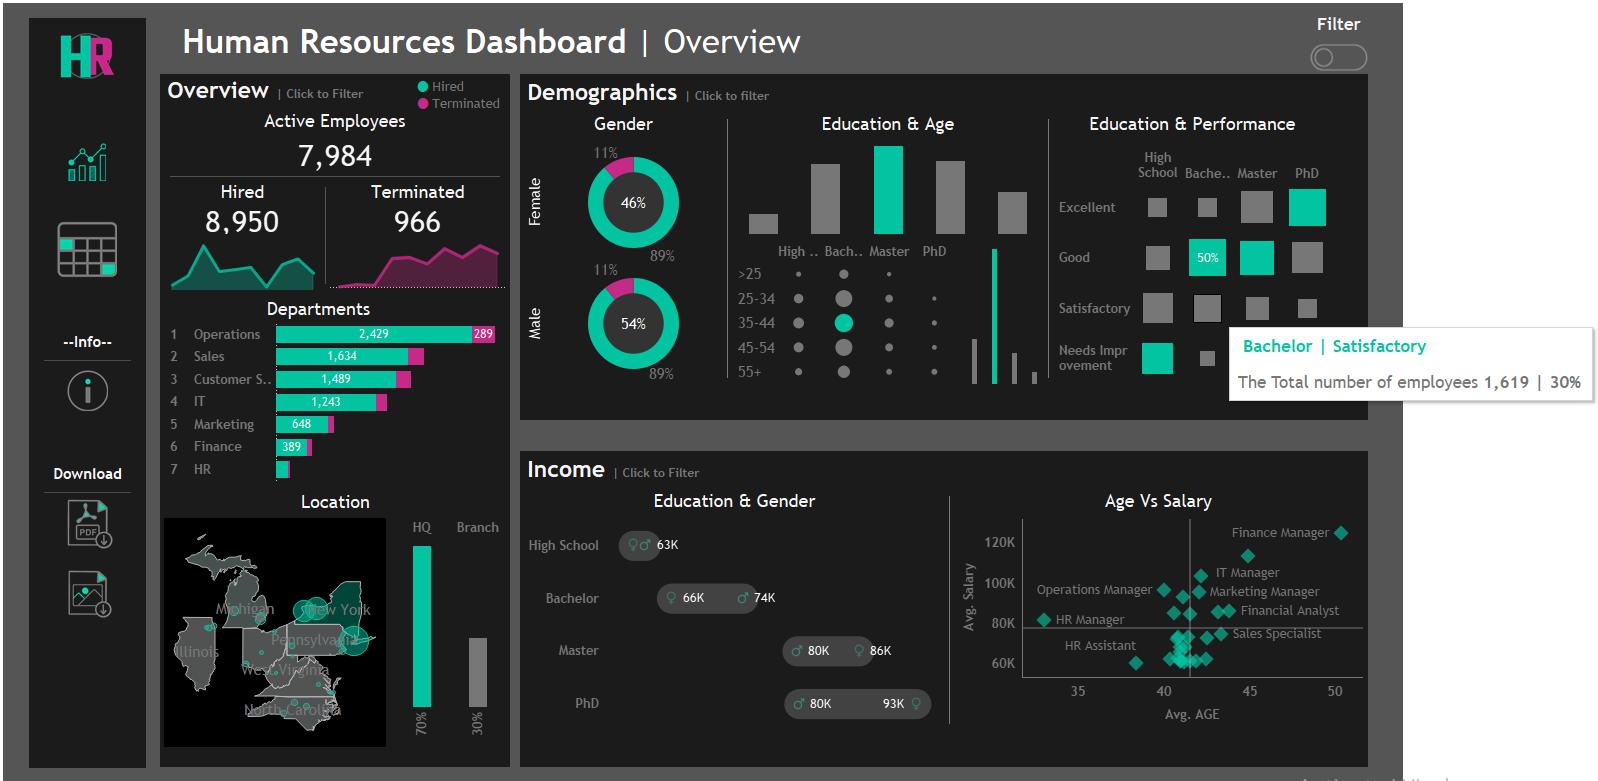

What the dashboard file says about the page in this screenshot:
{"tool":"tableau","page":{"name":"HR | Summary (3)","canvas":[1400,800],"ordinal":3},"visuals":[{"type":"blank","box":[7,7,130,393]},{"type":"text","box":[143,7,676,64]},{"type":"blank","box":[819,7,536,64]},{"type":"text","box":[149,77,352,32]},{"type":"text","box":[509,79,838,35]},{"type":"text","box":[149,109,352,29]},{"type":"text","box":[511,116,207,29]},{"type":"blank","box":[718,116,25,246]},{"type":"text","box":[743,116,261,29]},{"type":"blank","box":[1004,116,25,246]},{"type":"text","box":[1029,116,316,29]},{"type":"worksheet","title":"Active","mark":"Text","box":[149,138,352,41]},{"type":"worksheet","title":"Gender","mark":"Pie","rows":["Gender"],"cols":["Calculation_1937110846429085710","Calculation_1937110846429085710"],"box":[511,145,207,217]},{"type":"worksheet","title":"Age Group","mark":"Bar","rows":["Calculation_1937110846402056192"],"cols":["Calculation_1937110846440509456"],"box":[743,145,261,100]},{"type":"worksheet","title":"Education VS Performance","mark":"Square","rows":["Performance Rating"],"cols":["Education Level"],"box":[1029,145,316,217]},{"type":"blank","box":[149,179,352,25]},{"type":"text","box":[151,206,165,29]},{"type":"blank","box":[316,206,17,113]},{"type":"text","box":[333,206,166,29]},{"type":"worksheet","title":"HIRED","mark":"Text","box":[151,235,165,32]},{"type":"worksheet","title":"Terminated","mark":"Text","box":[333,235,166,32]},{"type":"worksheet","title":"Age VS Education","mark":"Pie","rows":["Calculation_1937110846440509456"],"cols":["Education Level"],"box":[743,245,152.5,117]},{"type":"worksheet","title":"Education Level","mark":"Bar","rows":["Calculation_1937110846402056192"],"cols":["Education Level"],"box":[895.5,245,108.5,117]},{"type":"worksheet","title":"Hired by Years","mark":"Line","rows":["Calculation_1937110846402056192","Calculation_1937110846402056192"],"cols":["Hiredate"],"box":[151,267,165,52]},{"type":"worksheet","title":"Terminated by Years","mark":"Line","rows":["Calculation_1937110846402326529","Calculation_1937110846402326529"],"cols":["Termdate"],"box":[333,267,166,52]},{"type":"blank","box":[149,321,118.7,25]},{"type":"text","box":[267.7,321,114.7,25]},{"type":"blank","box":[382.3,321,118.7,25]},{"type":"worksheet","title":"Departments","mark":"Bar","rows":["Calculation_1937110846415405062","Department"],"cols":["Calculation_1937110846402056192"],"box":[149,346,352,166]},{"type":"blank","box":[7,400,130,393]},{"type":"text","box":[509,415,838,35]},{"type":"text","box":[511,452,410.5,29]},{"type":"blank","box":[921.5,452,25,220]},{"type":"text","box":[946.5,452,398.5,29]},{"type":"worksheet","title":"Education VS Gender Level","mark":"Square","rows":["Education Level"],"cols":["Salary","Salary"],"box":[511,481,410.5,191]},{"type":"worksheet","title":"Age VS Salary","mark":"Shape","rows":["Salary"],"cols":["Calculation_1937110846439919631"],"box":[946.5,481,398.5,191]},{"type":"blank","box":[149,512,120,24]},{"type":"text","box":[269,512,112,24]},{"type":"blank","box":[381,512,120,24]},{"type":"worksheet","title":"MAP STATE","mark":"Automatic","box":[149,536,292,222]},{"type":"worksheet","title":"Location","mark":"Bar","rows":["Calculation_1937110846402056192"],"cols":["Calculation_1937110846422126599","Calculation1"],"box":[441,536,60,222]}]}

Visuals, with their boxes on the page's 1400x800 design canvas (x1, y1, x2, y2). These are canvas units, not pixel positions in the 1598x781 screenshot, which may show the page scaled, cropped or inside an application window:
blank: x1=7 y1=7 x2=137 y2=400
text: x1=143 y1=7 x2=819 y2=71
blank: x1=819 y1=7 x2=1355 y2=71
text: x1=149 y1=77 x2=501 y2=109
text: x1=509 y1=79 x2=1347 y2=114
text: x1=149 y1=109 x2=501 y2=138
text: x1=511 y1=116 x2=718 y2=145
blank: x1=718 y1=116 x2=743 y2=362
text: x1=743 y1=116 x2=1004 y2=145
blank: x1=1004 y1=116 x2=1029 y2=362
text: x1=1029 y1=116 x2=1345 y2=145
"Active" worksheet (Text marks): x1=149 y1=138 x2=501 y2=179
"Gender" worksheet (Pie marks): x1=511 y1=145 x2=718 y2=362
"Age Group" worksheet (Bar marks): x1=743 y1=145 x2=1004 y2=245
"Education VS Performance" worksheet (Square marks): x1=1029 y1=145 x2=1345 y2=362
blank: x1=149 y1=179 x2=501 y2=204
text: x1=151 y1=206 x2=316 y2=235
blank: x1=316 y1=206 x2=333 y2=319
text: x1=333 y1=206 x2=499 y2=235
"HIRED" worksheet (Text marks): x1=151 y1=235 x2=316 y2=267
"Terminated" worksheet (Text marks): x1=333 y1=235 x2=499 y2=267
"Age VS Education" worksheet (Pie marks): x1=743 y1=245 x2=896 y2=362
"Education Level" worksheet (Bar marks): x1=896 y1=245 x2=1004 y2=362
"Hired by Years" worksheet (Line marks): x1=151 y1=267 x2=316 y2=319
"Terminated by Years" worksheet (Line marks): x1=333 y1=267 x2=499 y2=319
blank: x1=149 y1=321 x2=268 y2=346
text: x1=268 y1=321 x2=382 y2=346
blank: x1=382 y1=321 x2=501 y2=346
"Departments" worksheet (Bar marks): x1=149 y1=346 x2=501 y2=512
blank: x1=7 y1=400 x2=137 y2=793
text: x1=509 y1=415 x2=1347 y2=450
text: x1=511 y1=452 x2=922 y2=481
blank: x1=922 y1=452 x2=946 y2=672
text: x1=946 y1=452 x2=1345 y2=481
"Education VS Gender Level" worksheet (Square marks): x1=511 y1=481 x2=922 y2=672
"Age VS Salary" worksheet (Shape marks): x1=946 y1=481 x2=1345 y2=672
blank: x1=149 y1=512 x2=269 y2=536
text: x1=269 y1=512 x2=381 y2=536
blank: x1=381 y1=512 x2=501 y2=536
"MAP STATE" worksheet: x1=149 y1=536 x2=441 y2=758
"Location" worksheet (Bar marks): x1=441 y1=536 x2=501 y2=758
